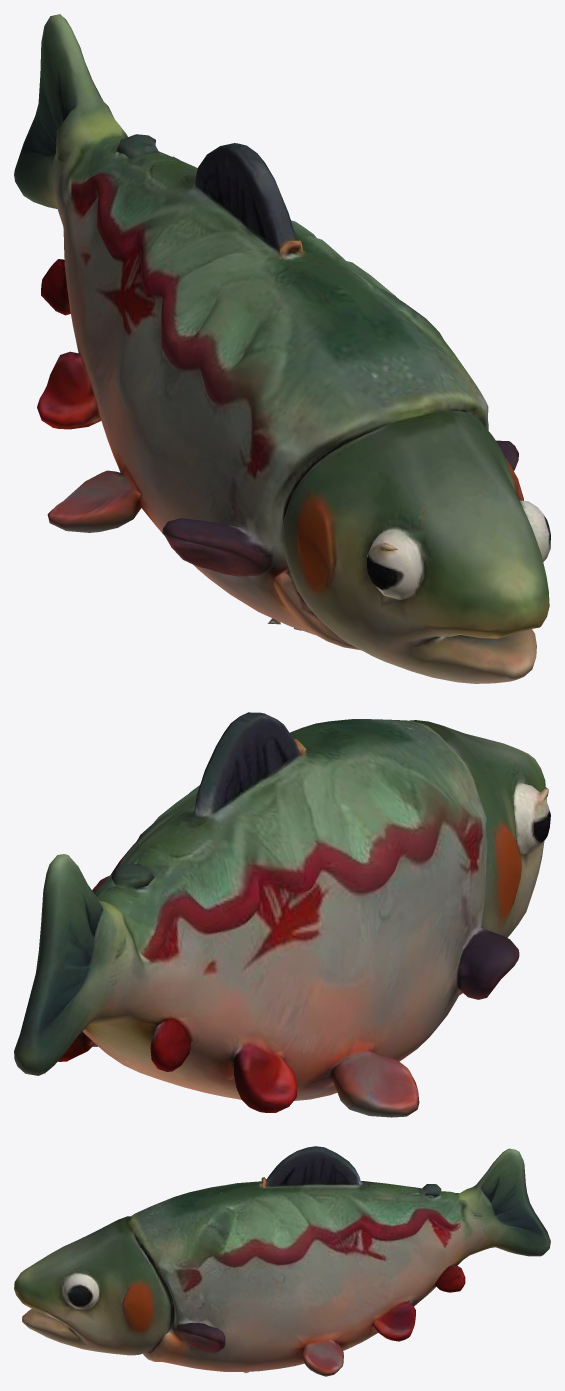
The model's file is salmon.glb.
The picture shows the model from 3 angles, top to bottom: view 1: azimuth 30°, elevation 25°; view 2: azimuth 150°, elevation 25°; view 3: azimuth 270°, elevation 25°; orthographic projection. The views are drawn at different scales.
Visible parts, largest first — view 1: tripo_node_b8cf0cdb-c129-4d62-9136-5946736b4f28; view 2: tripo_node_b8cf0cdb-c129-4d62-9136-5946736b4f28; view 3: tripo_node_b8cf0cdb-c129-4d62-9136-5946736b4f28.
Boxes of the visible parts, x1,y1,x2,y2 form: tripo_node_b8cf0cdb-c129-4d62-9136-5946736b4f28: (14, 14, 550, 683); tripo_node_b8cf0cdb-c129-4d62-9136-5946736b4f28: (14, 712, 550, 1117); tripo_node_b8cf0cdb-c129-4d62-9136-5946736b4f28: (14, 1146, 550, 1376).
Size of the model in its own units: 0.4191 by 0.4426 by 1.
Materials: 1 (1 with a texture image).
